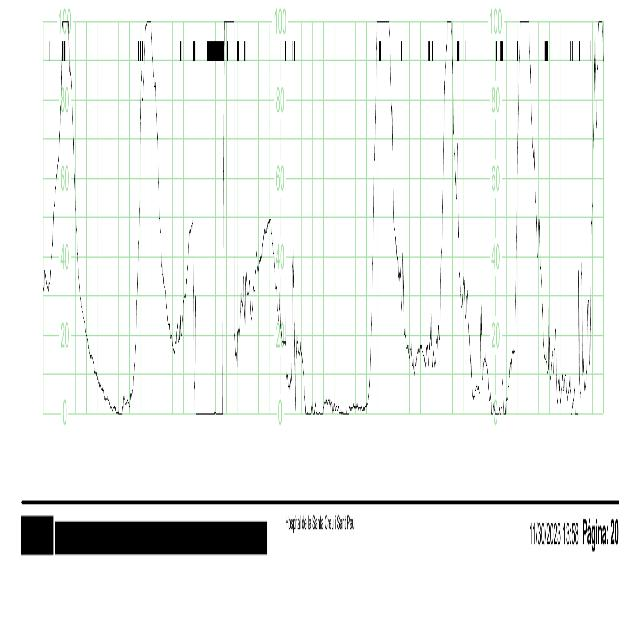contraction: (124, 23, 162, 413), (362, 19, 398, 409), (505, 21, 539, 413), (434, 23, 466, 365), (213, 19, 239, 415), (48, 23, 76, 290), (587, 21, 603, 367), (250, 214, 278, 322), (175, 220, 197, 355), (574, 274, 582, 407), (289, 257, 296, 386)
